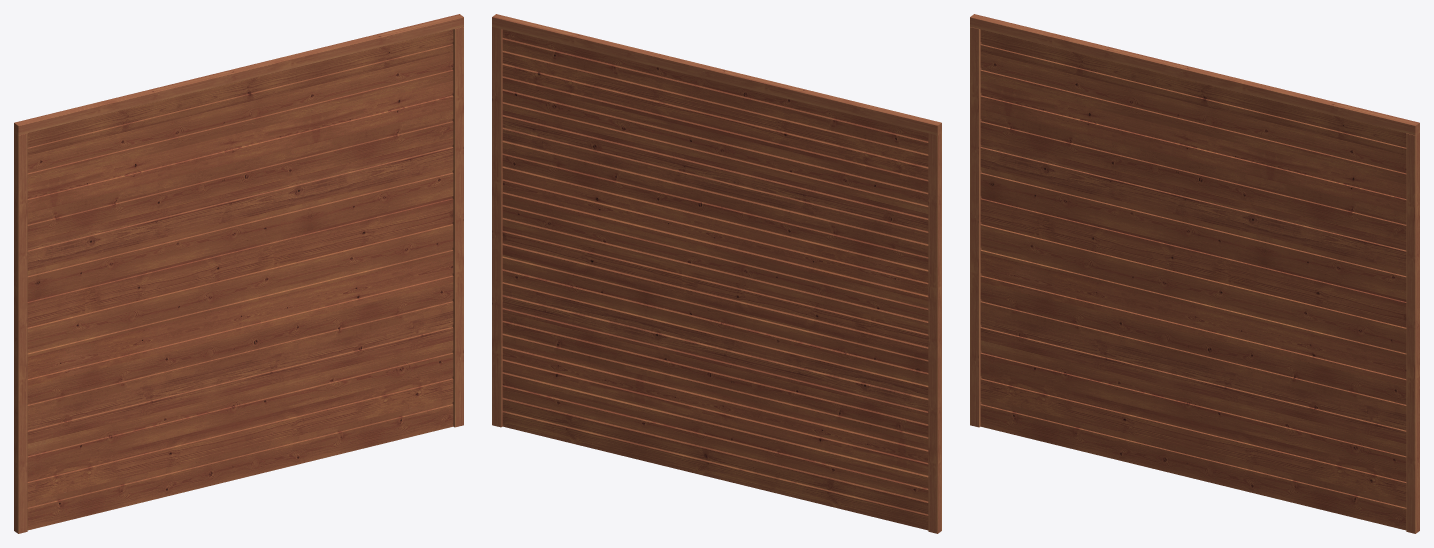
File: 9ftx7.875ft.obj
3 renders of one model, left to right at view 1: azimuth 30°, elevation 25°; view 2: azimuth 150°, elevation 25°; view 3: azimuth 330°, elevation 25°, orthographic.
Parts seen in each view (by area): view 1: wall_planks, trim_top, trim_left, trim_right; view 2: wall_planks, trim_top, trim_left, trim_right; view 3: wall_planks, trim_top, trim_right, trim_left.
Boxes of the visible parts, x1,y1,x2,y2 form: wall_planks: (27, 29, 453, 530); trim_top: (14, 14, 463, 135); trim_left: (14, 132, 27, 533); trim_right: (452, 27, 463, 427); wall_planks: (502, 29, 928, 530); trim_top: (492, 14, 941, 135); trim_left: (928, 132, 941, 533); trim_right: (492, 27, 502, 427); wall_planks: (980, 29, 1406, 530); trim_top: (970, 14, 1419, 135); trim_right: (1406, 132, 1419, 533); trim_left: (970, 27, 981, 427).
Size of the model in its own units: 108 by 94.5 by 1.82.
